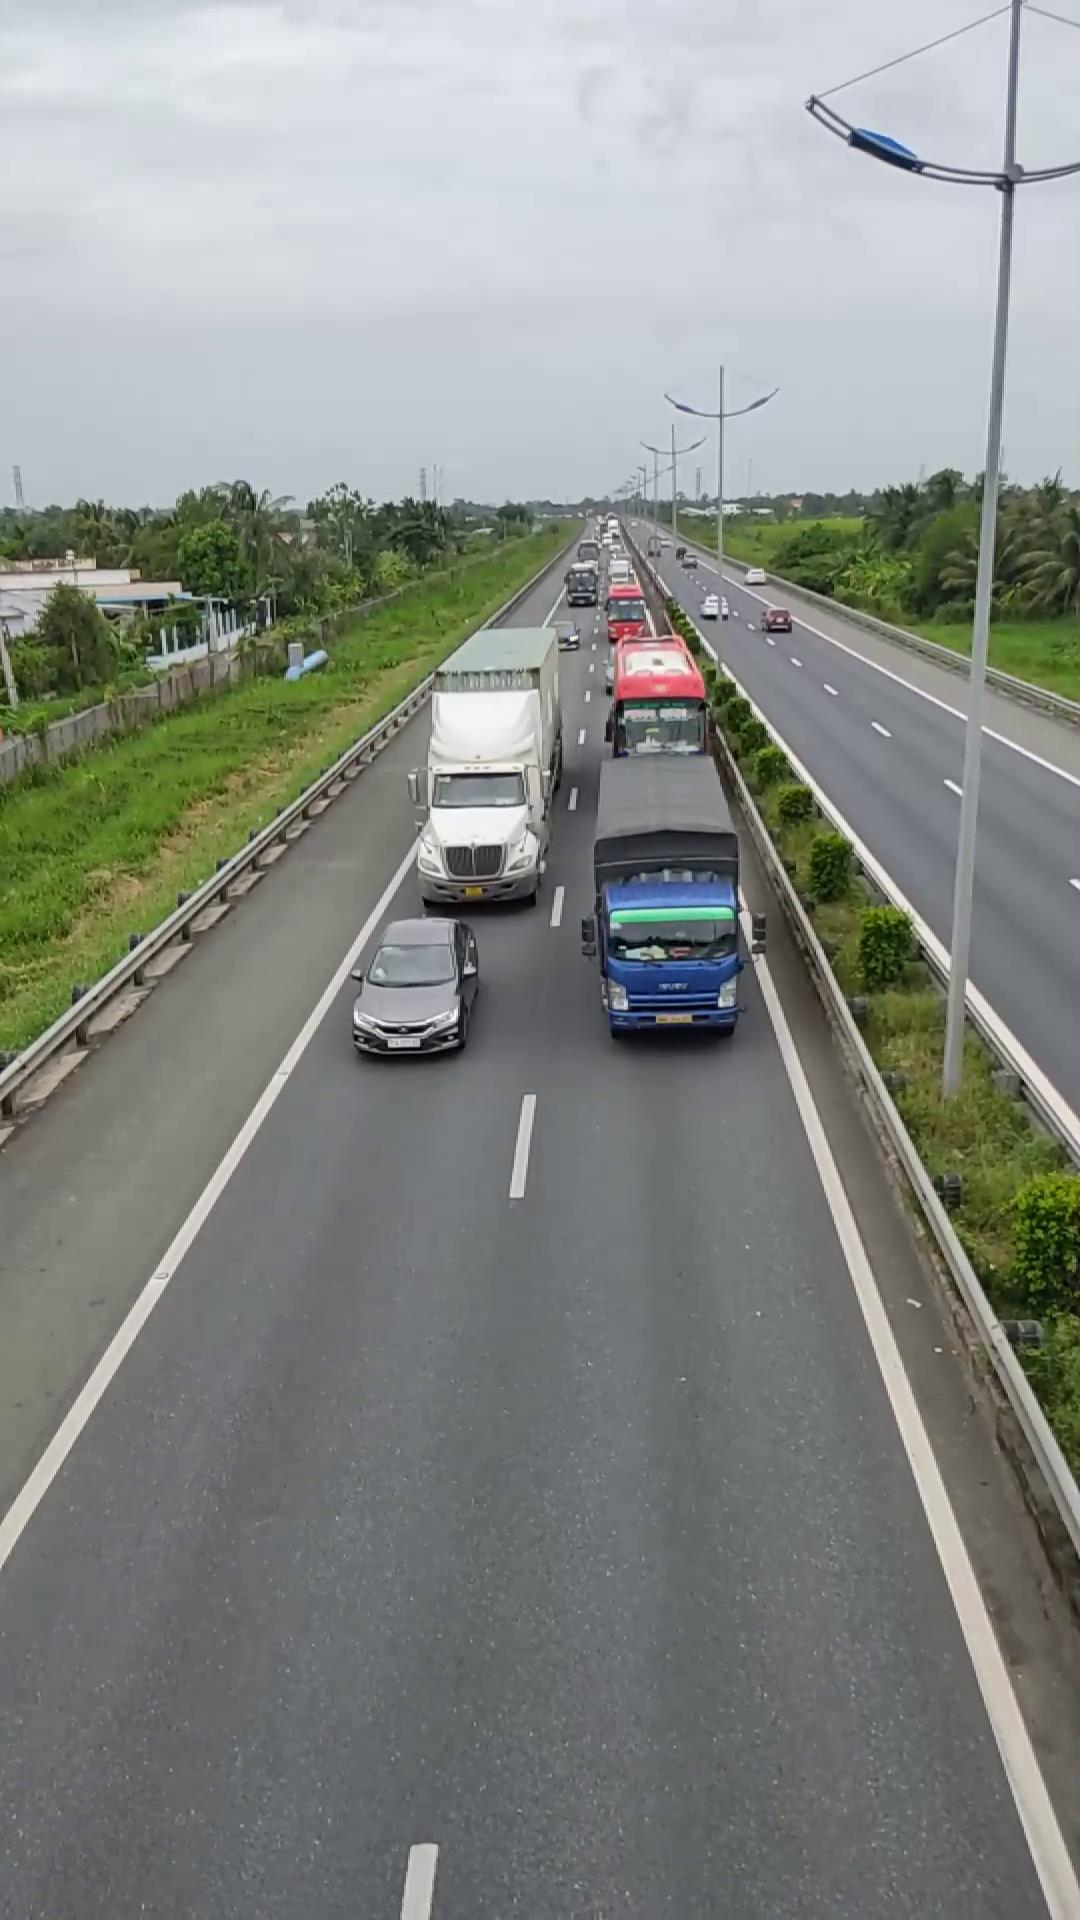car: (348, 913, 480, 1059)
container: (415, 621, 564, 910)
truck: (583, 757, 750, 1037)
